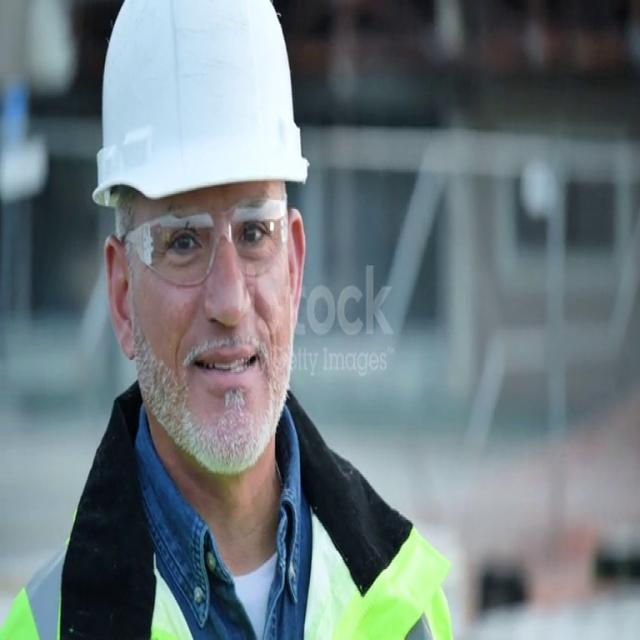capacete: (82, 0, 312, 233)
